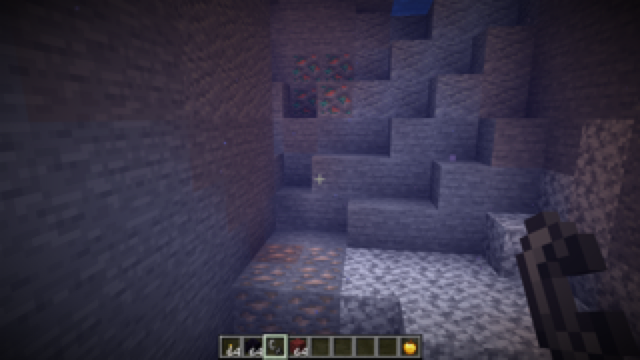copper: (290, 52, 355, 118)
iron: (231, 240, 344, 343)
